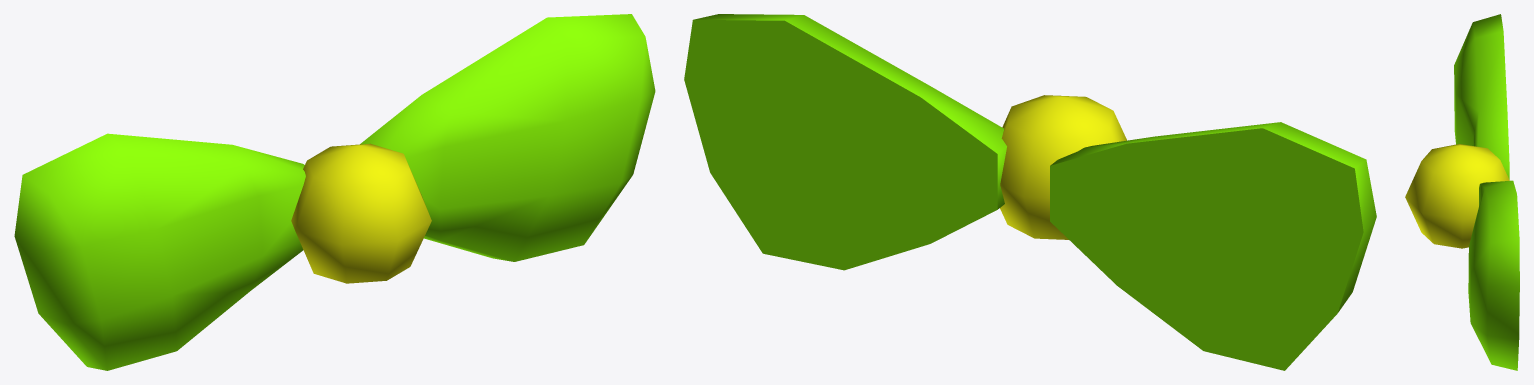
Rendered from BowTie.FBX.
The picture shows the model from 3 angles, left to right: view 1: azimuth 30°, elevation 25°; view 2: azimuth 150°, elevation 25°; view 3: azimuth 270°, elevation 25°; orthographic projection. The views are drawn at different scales.
Parts seen in each view (by area): view 1: Pajarita; view 2: Pajarita; view 3: Pajarita.
Boxes of the visible parts, x1,y1,x2,y2 form: Pajarita: (14,14,655,370); Pajarita: (684,14,1376,370); Pajarita: (1405,14,1519,370).
Size of the model in its own units: 0.5509 by 0.1155 by 0.188.
